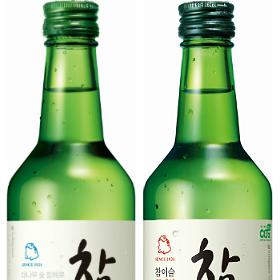soju: (5, 1, 274, 280)
